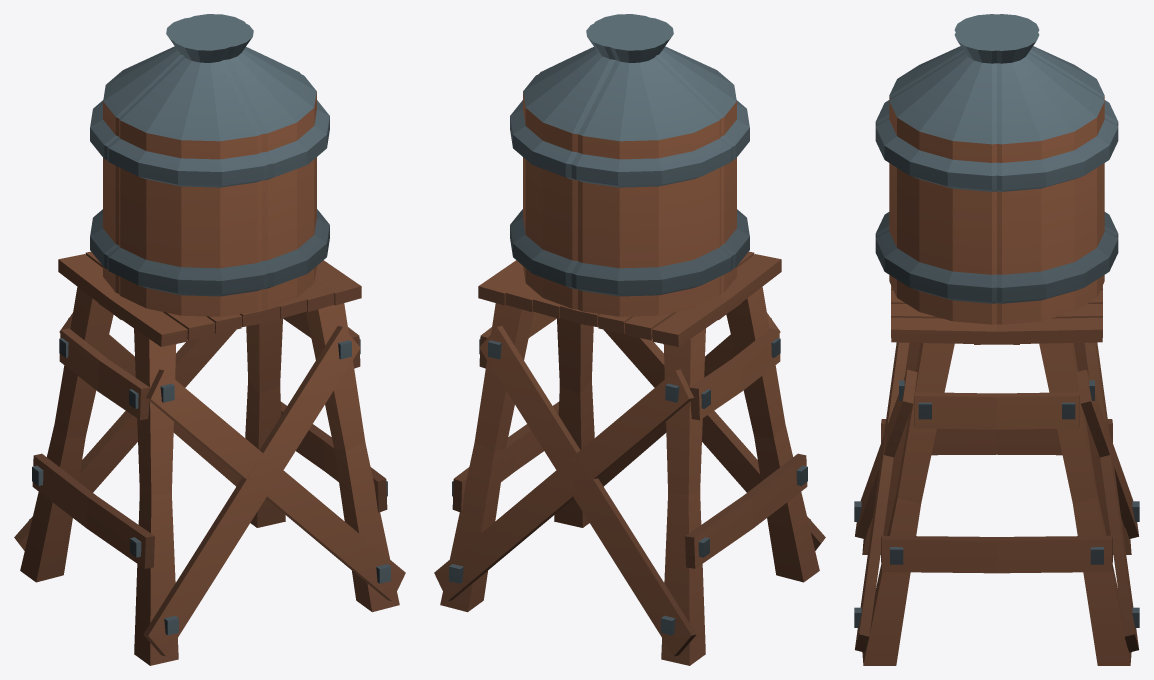
The model's file is low_poly_water_tower_-_rustic_wooden_structure.glb.
3 views of the same model, side by side, from view 1: azimuth 30°, elevation 25°; view 2: azimuth 150°, elevation 25°; view 3: azimuth 270°, elevation 25° (orthographic). The views are drawn at different scales.
Visible parts, largest first — view 1: Cube.012_0; view 2: Cube.012_0; view 3: Cube.012_0.
Boxes of the visible parts, bbox=[...] form: Cube.012_0: bbox=[14, 14, 405, 665]; Cube.012_0: bbox=[434, 14, 825, 665]; Cube.012_0: bbox=[854, 14, 1139, 665].
Size of the model in its own units: 11.83 by 24.36 by 11.03.
Materials: 1 (1 with a texture image).
